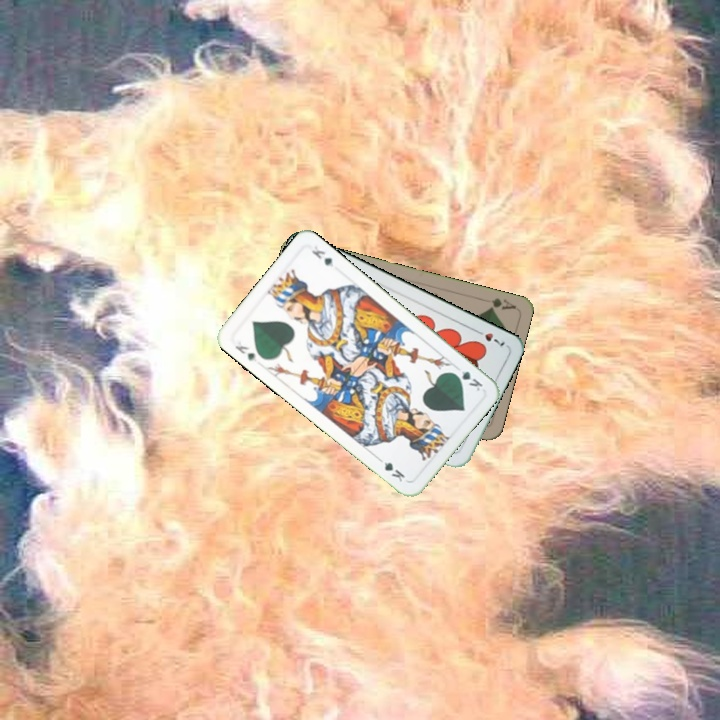GA: (485, 294, 518, 313)
GK: (448, 366, 486, 394), (231, 341, 260, 365)
H7: (471, 325, 507, 350)
